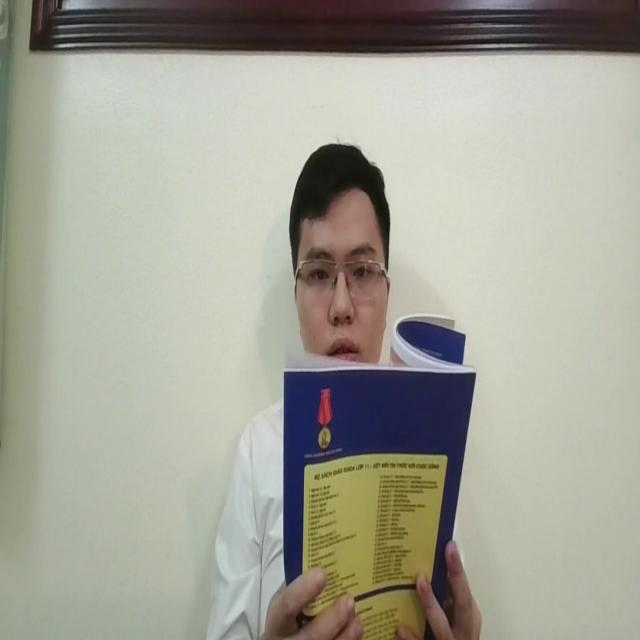book: (284, 322, 468, 640)
student: (291, 144, 387, 368)
